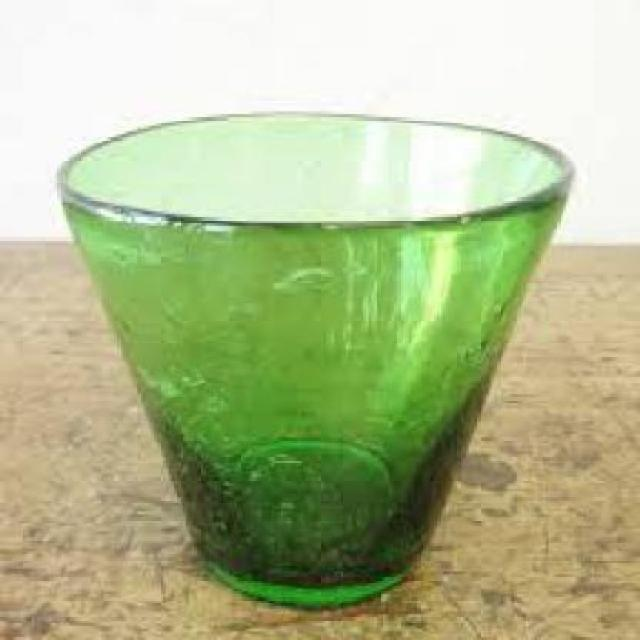kaca: (54, 112, 569, 610)
